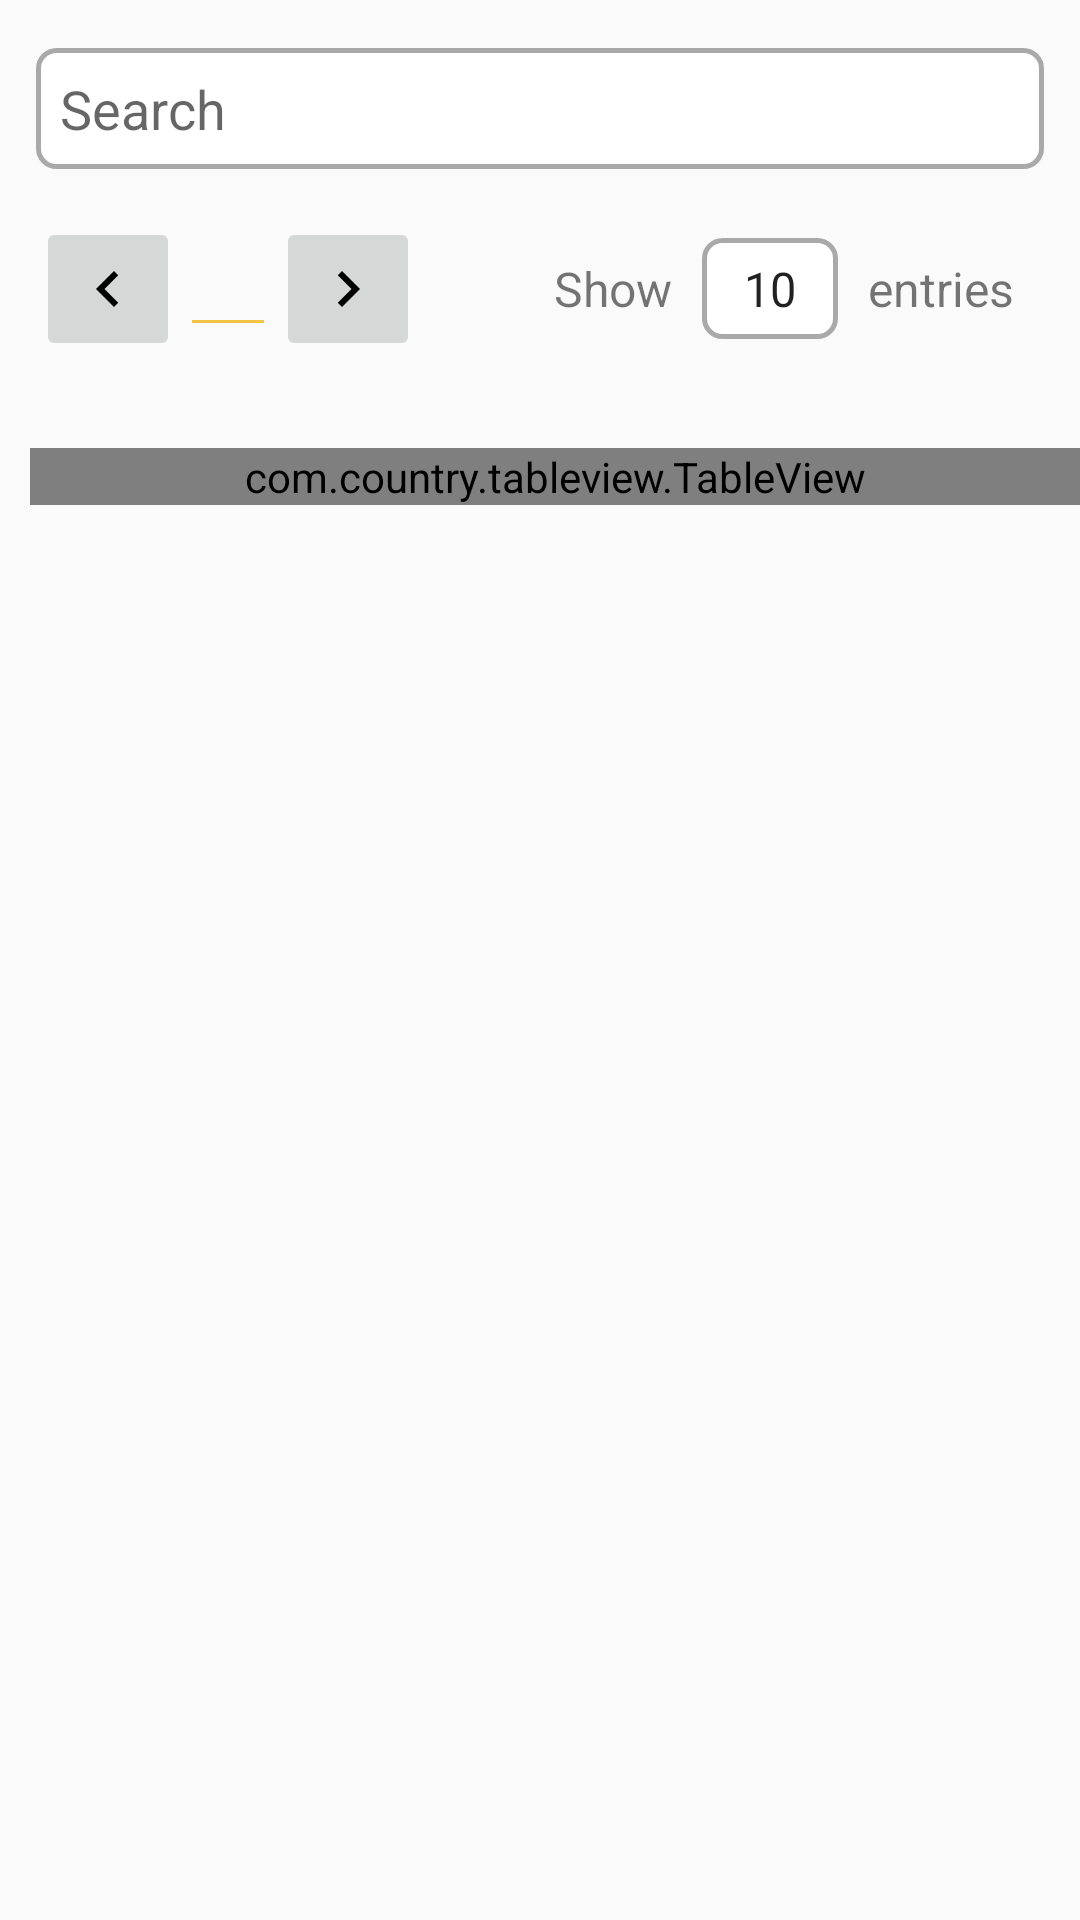

Icons on this 1080×1920 Android screen, each with its box as (x1, y1, x2, y2):
next: (288, 235, 408, 343)
previous: (48, 235, 168, 343)
